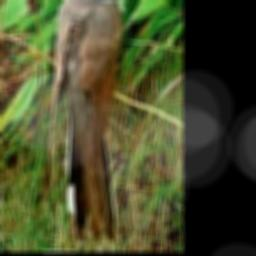Cuckoo: (54, 0, 132, 237)
